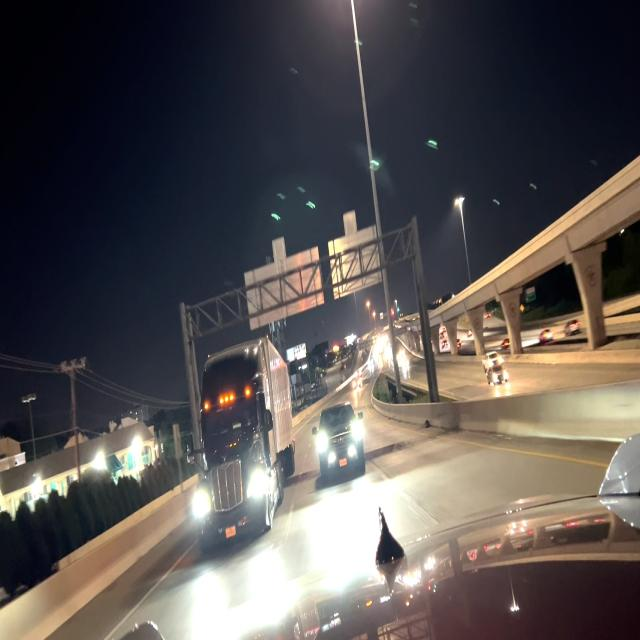back-of-sign: (243, 236, 325, 332), (329, 209, 384, 301)
